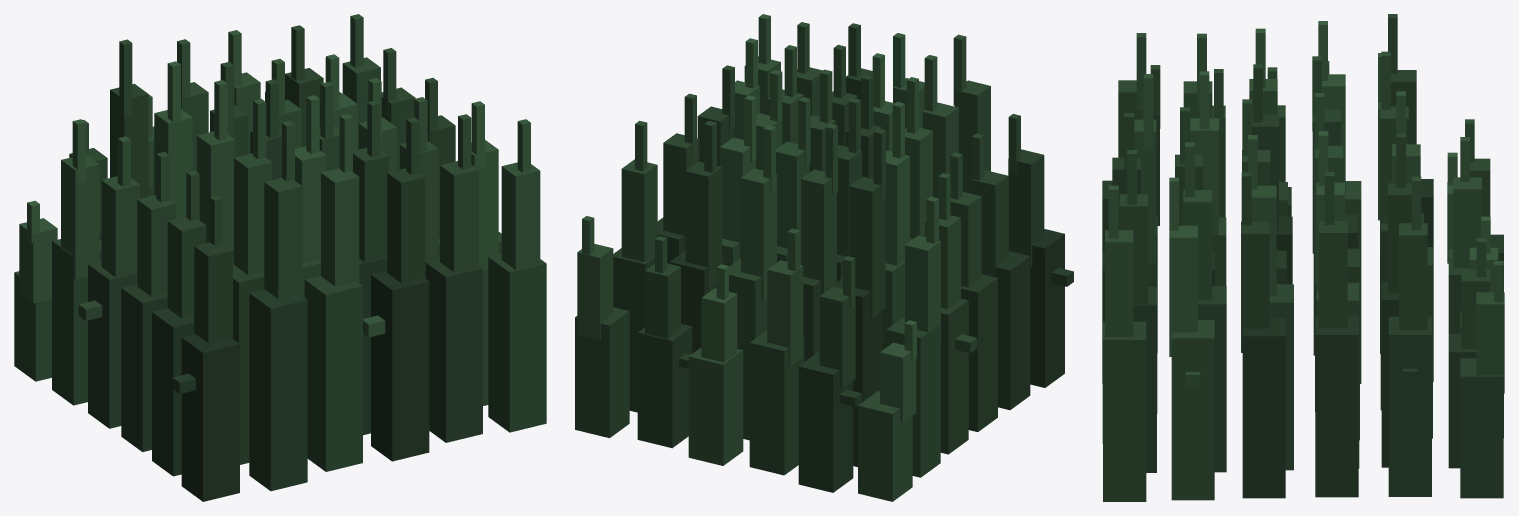
File: CMU3DTallJungleGrassSide.glb
The picture shows the model from 3 angles, left to right: view 1: azimuth 30°, elevation 25°; view 2: azimuth 150°, elevation 25°; view 3: azimuth 270°, elevation 25°; orthographic projection. The views are drawn at different scales.
Visible parts, largest first — view 1: grass blade base (×14), leaning grass blade (×31), narrow blade tip (×27); view 2: leaning grass blade (×35), grass blade base (×18), narrow blade tip (×31); view 3: grass blade base (×23), leaning grass blade (×34), narrow blade tip (×26).
Part boxes in pixels (x1=…): grass blade base (×14): x1=14, y1=232, x2=546, y2=501; leaning grass blade (×31): x1=19, y1=57, x2=540, y2=343; narrow blade tip (×27): x1=72, y1=14, x2=530, y2=245; leaning grass blade (×35): x1=577, y1=56, x2=1044, y2=422; grass blade base (×18): x1=575, y1=217, x2=1064, y2=501; narrow blade tip (×31): x1=635, y1=14, x2=1020, y2=307; grass blade base (×23): x1=1102, y1=179, x2=1503, y2=501; leaning grass blade (×34): x1=1105, y1=70, x2=1504, y2=393; narrow blade tip (×26): x1=1108, y1=14, x2=1469, y2=238.
Bounding box in the file's own units: 1.02 × 0.944 × 0.9877.
